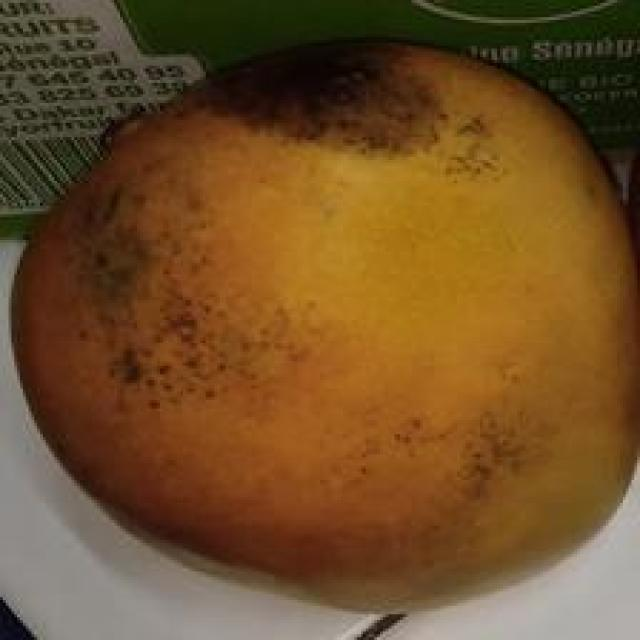Bad_Mango: (14, 45, 640, 607)
